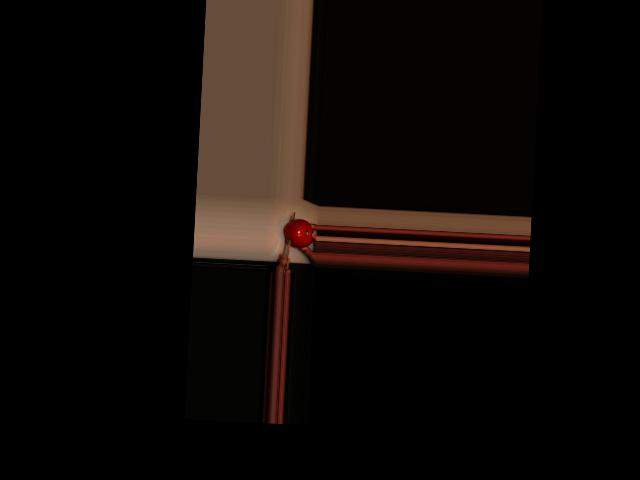tomato: (283, 217, 314, 248)
